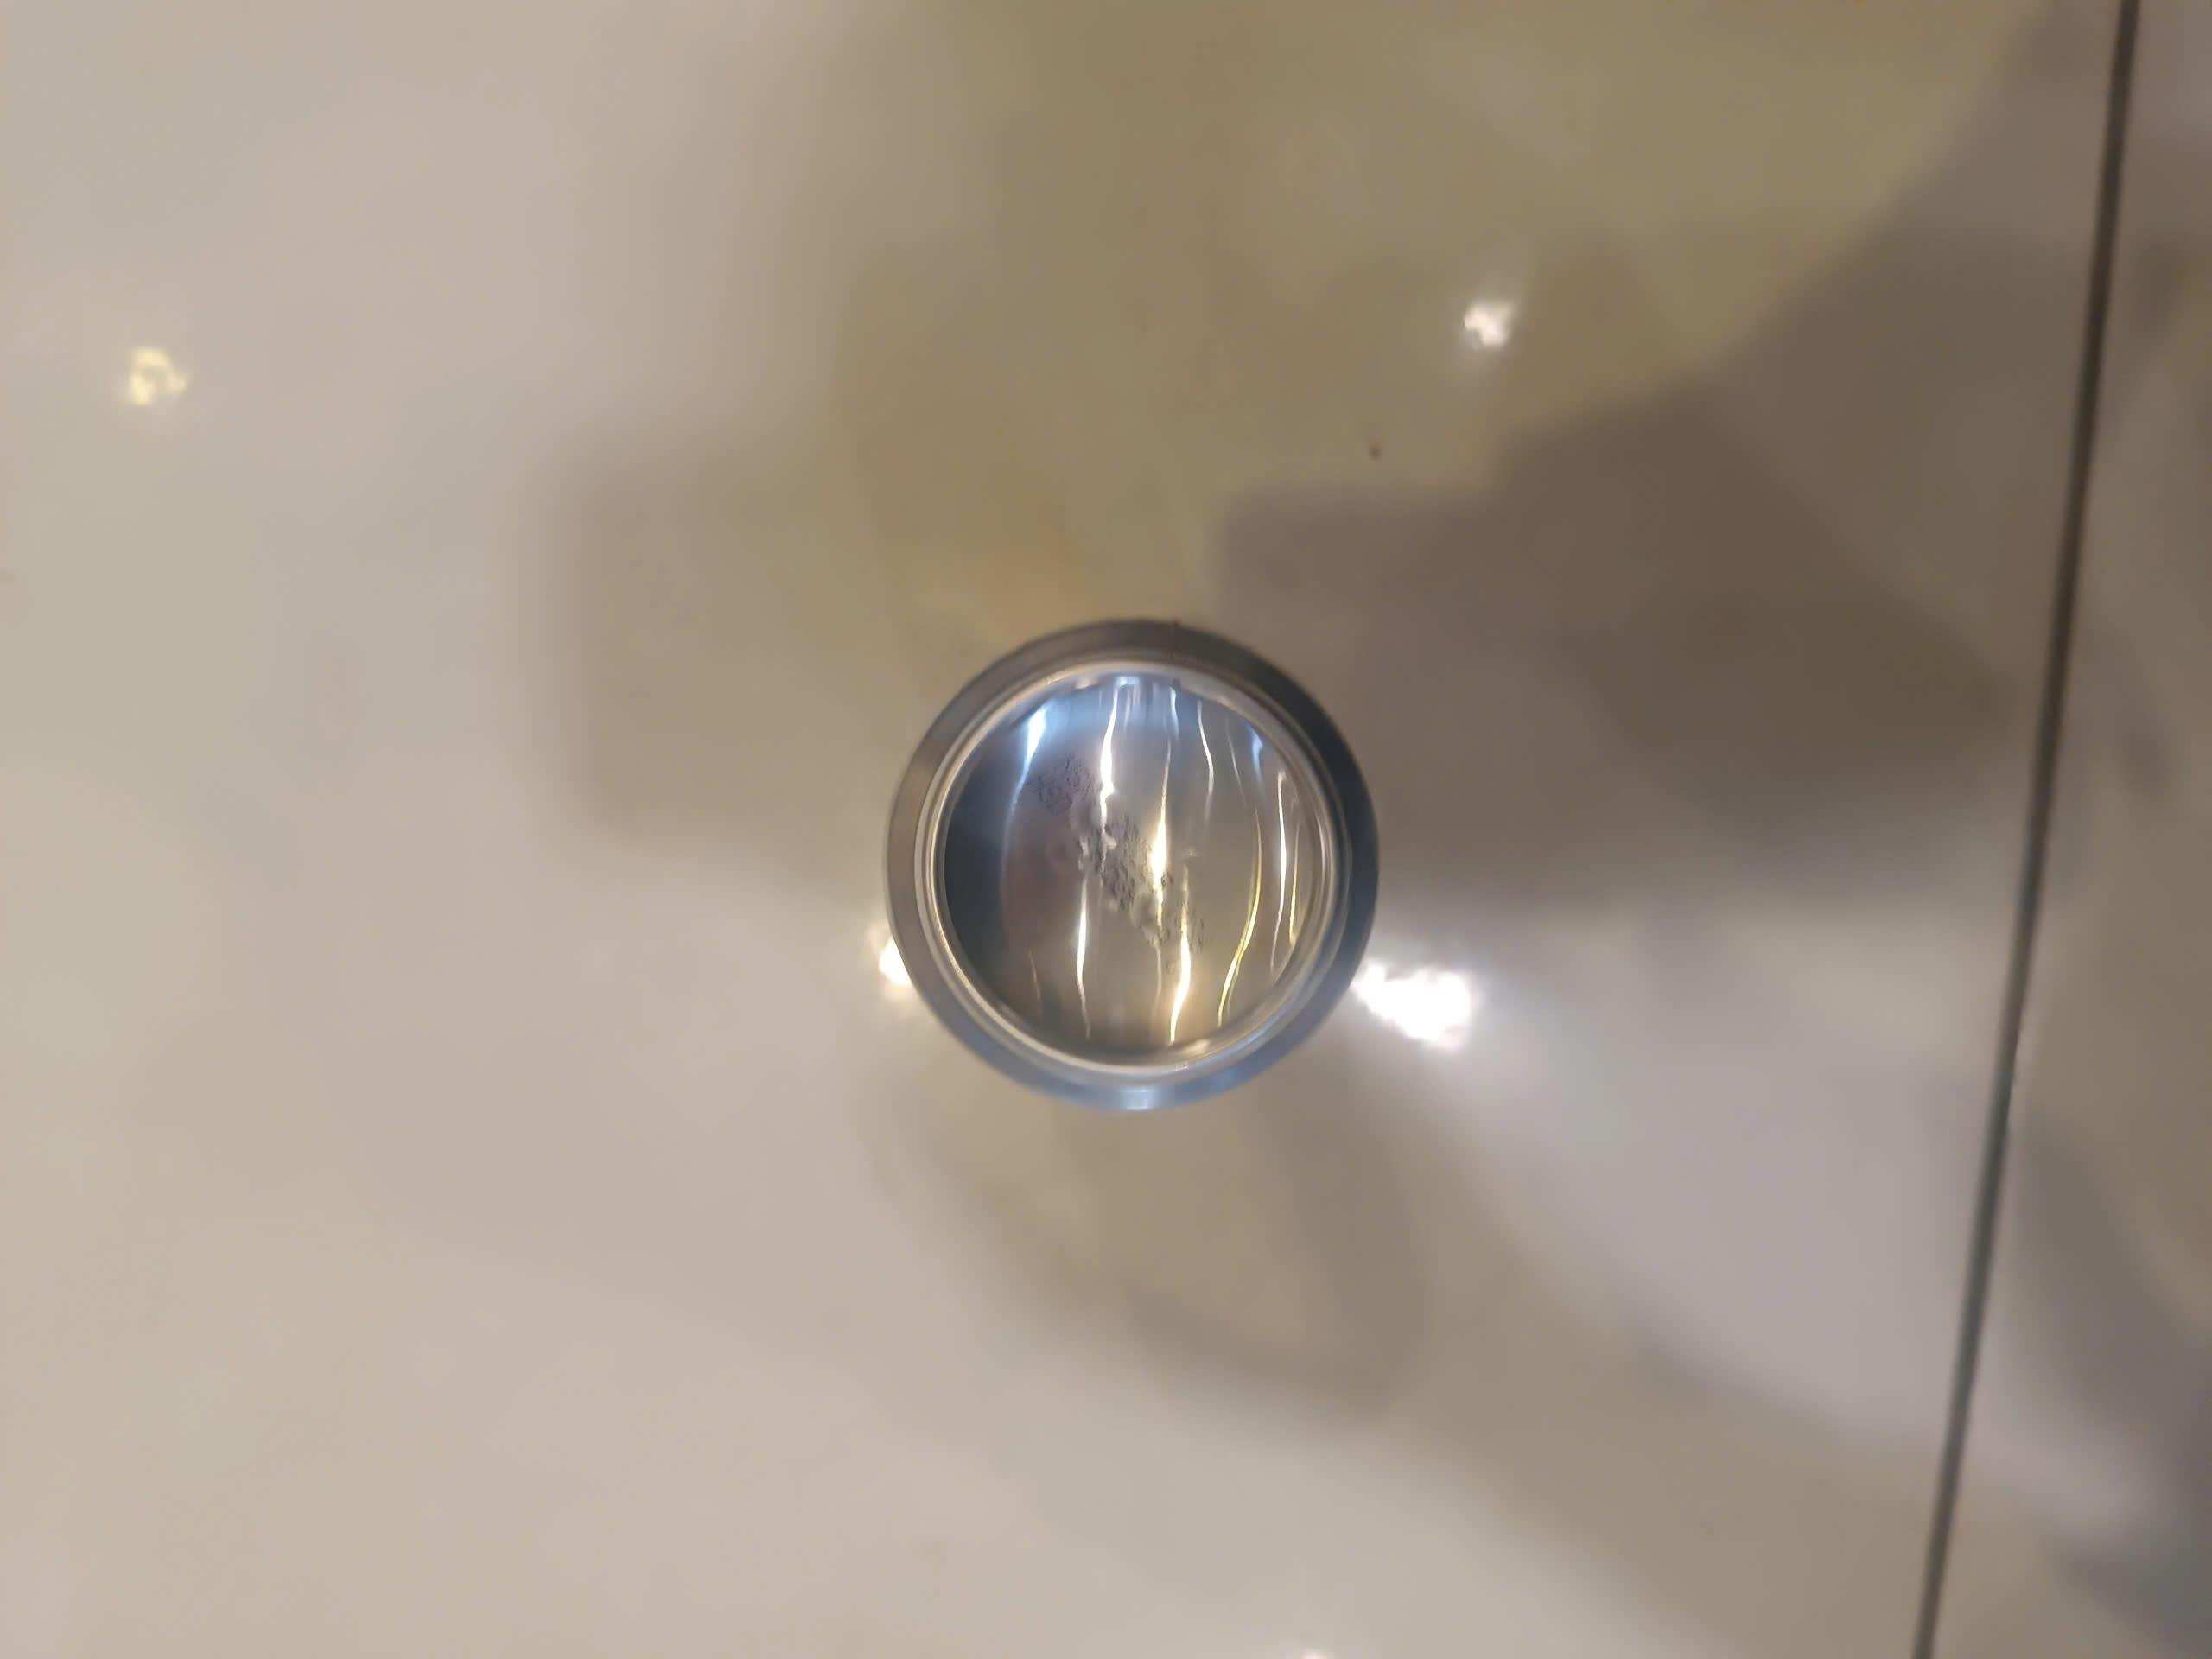Vo co: (876, 612, 1383, 1112)
